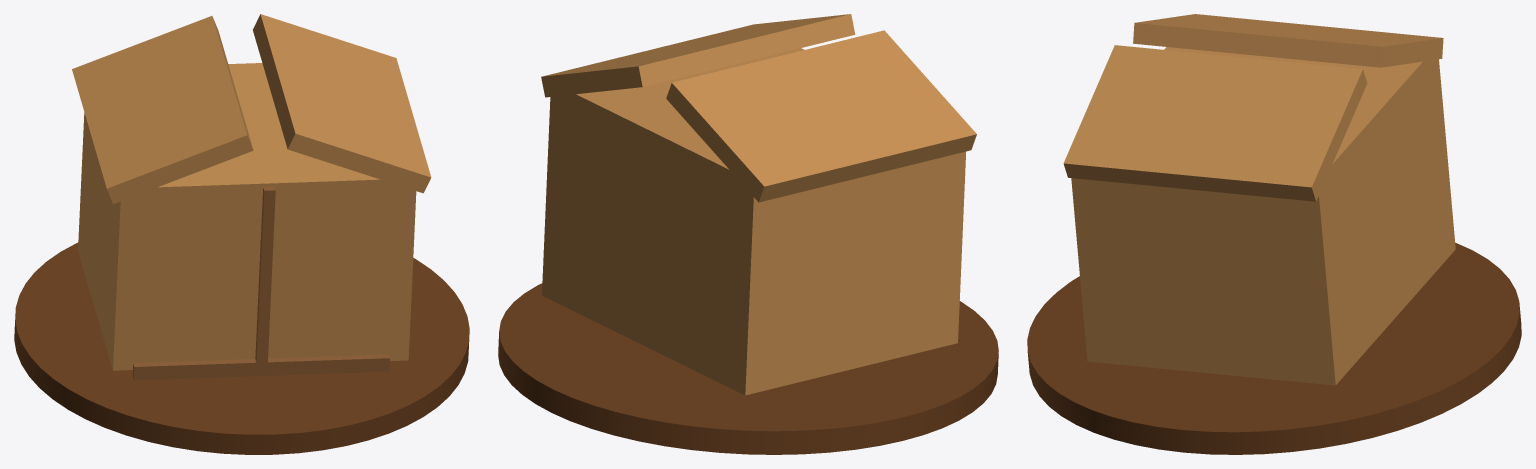
The model's file is Cardboard.glb.
3 views of the same model, side by side, from view 1: azimuth 30°, elevation 25°; view 2: azimuth 150°, elevation 25°; view 3: azimuth 270°, elevation 25° (orthographic). The views are drawn at different scales.
Bounding box in the file's own units: 2.36 × 1.74 × 2.36.
